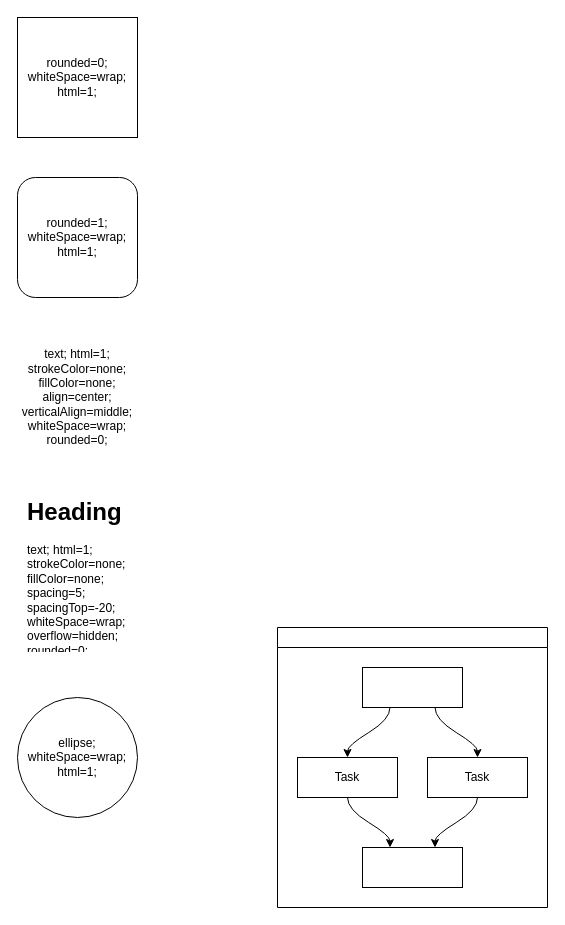
This 565x925 diagram has some shape labels left out. Here are the shapes that lost their labels. From the top down, the box of each, then its label:
(362, 666, 462, 708): Start
(276, 626, 548, 908): Vertical Flow Layout
(362, 846, 462, 888): End
